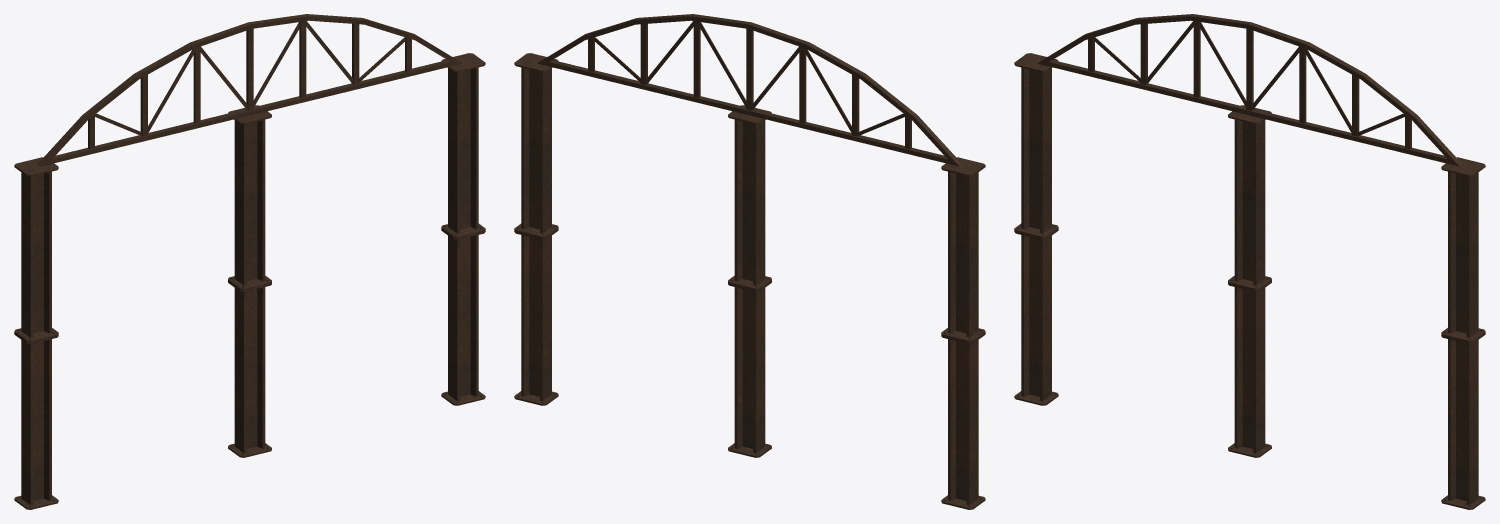
The model's file is warehouse_hl_1_frame_piece.obj.
The picture shows the model from 3 angles, left to right: view 1: azimuth 30°, elevation 25°; view 2: azimuth 150°, elevation 25°; view 3: azimuth 330°, elevation 25°; orthographic projection.
Visible parts, largest first — view 1: warehouse_hl_1_frame_piece; view 2: warehouse_hl_1_frame_piece; view 3: warehouse_hl_1_frame_piece.
Part boxes in pixels (<box>): warehouse_hl_1_frame_piece: <box>14,14,485,509</box>; warehouse_hl_1_frame_piece: <box>514,14,985,509</box>; warehouse_hl_1_frame_piece: <box>1014,14,1485,509</box>.
Size of the model in its own units: 8.6 by 7.62 by 0.5.
